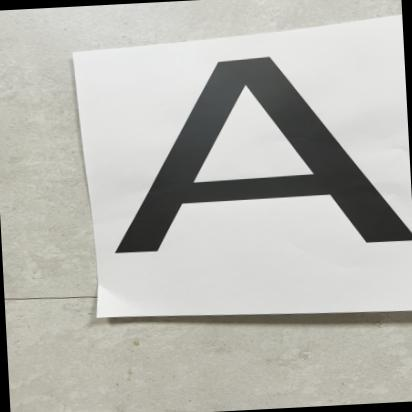seat: (109, 38, 412, 315)
